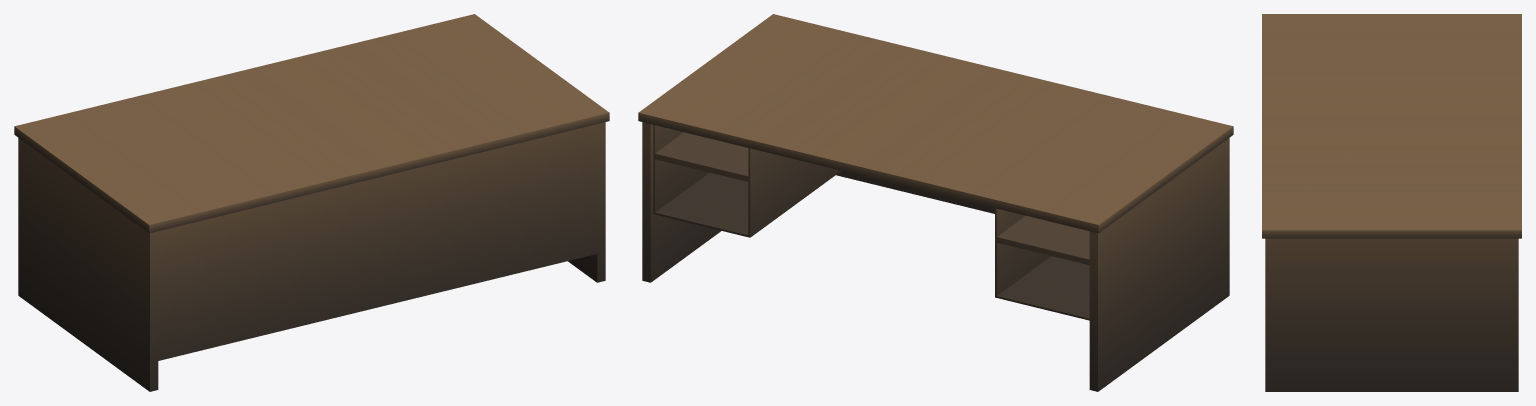
Rendered from Table_OfficeDesk2_Open.fbx.
3 views of the same model, side by side, from view 1: azimuth 30°, elevation 25°; view 2: azimuth 150°, elevation 25°; view 3: azimuth 270°, elevation 25° (orthographic). The views are drawn at different scales.
Parts seen in each view (by area): view 1: Table_OfficeDesk2_Open; view 2: Table_OfficeDesk2_Open; view 3: Table_OfficeDesk2_Open.
Boxes of the visible parts, left/top/right/bottom form: Table_OfficeDesk2_Open: left=14, top=14, right=609, bottom=391; Table_OfficeDesk2_Open: left=638, top=14, right=1233, bottom=391; Table_OfficeDesk2_Open: left=1262, top=14, right=1521, bottom=391.
Bounding box in the file's own units: 210 × 73.44 × 106.
